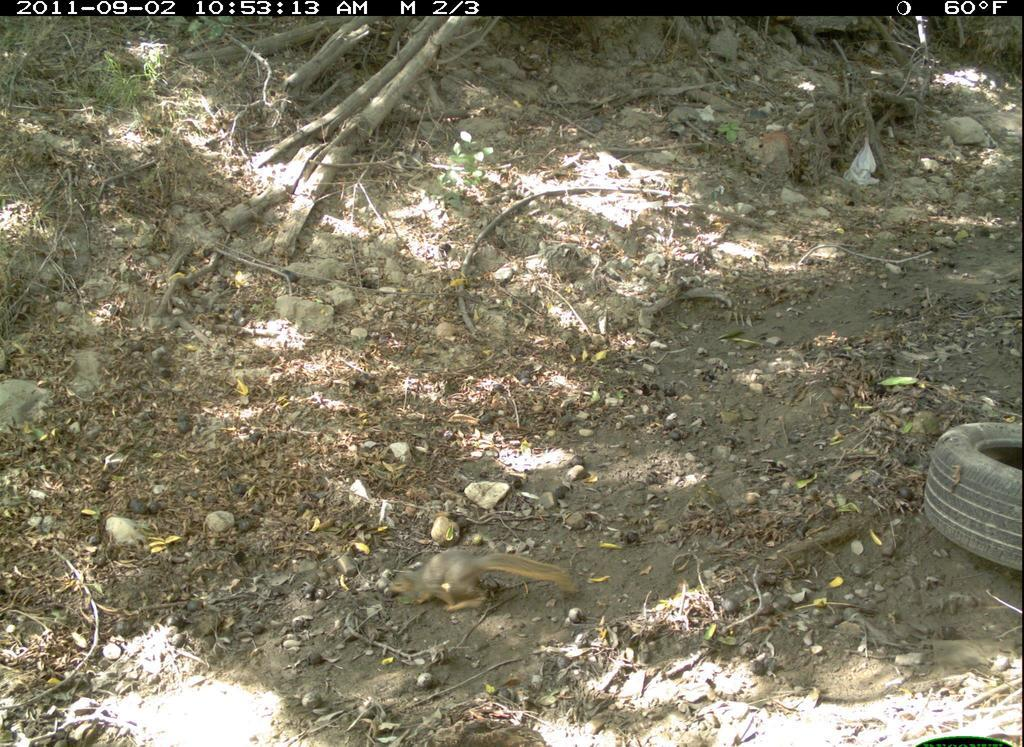squirrel: (376, 536, 590, 629)
